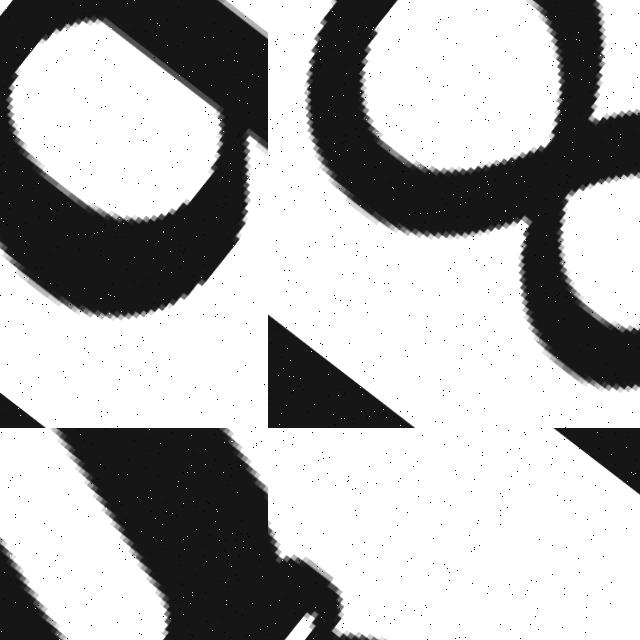8: (268, 0, 640, 428)
G: (268, 476, 626, 640)
N: (0, 428, 268, 640)
